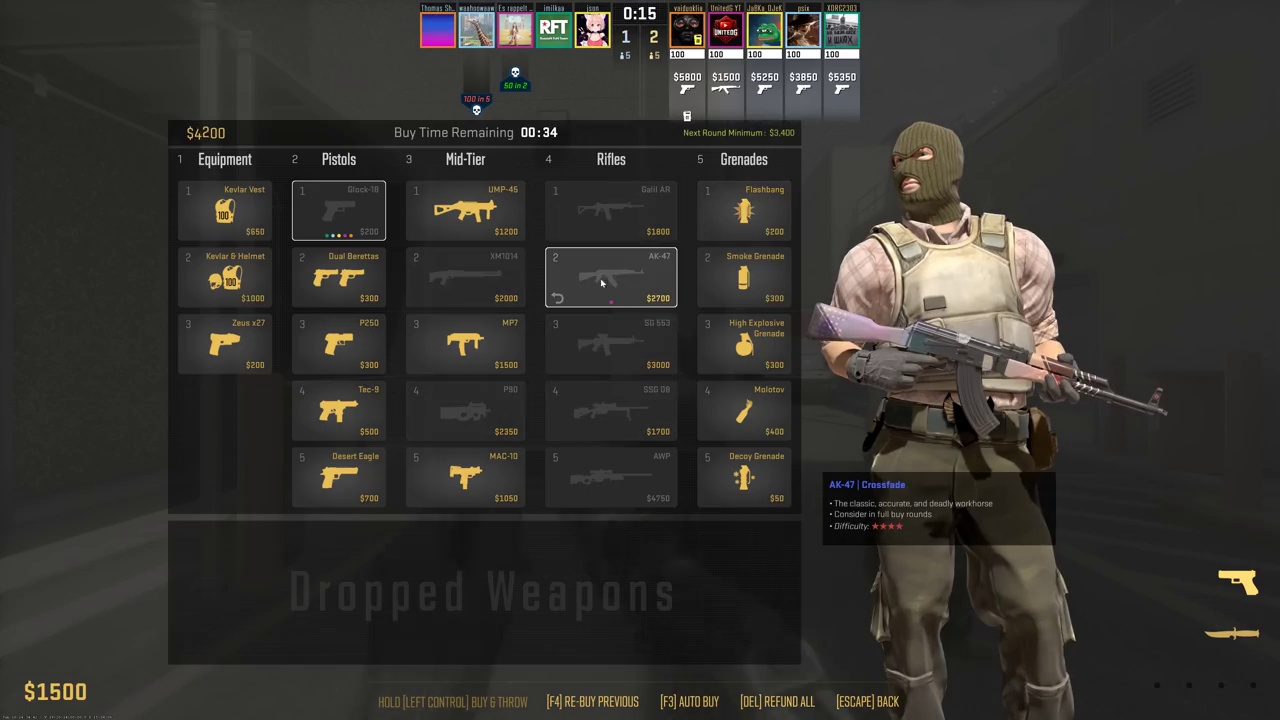Terrorist: (833, 121, 1072, 720)
